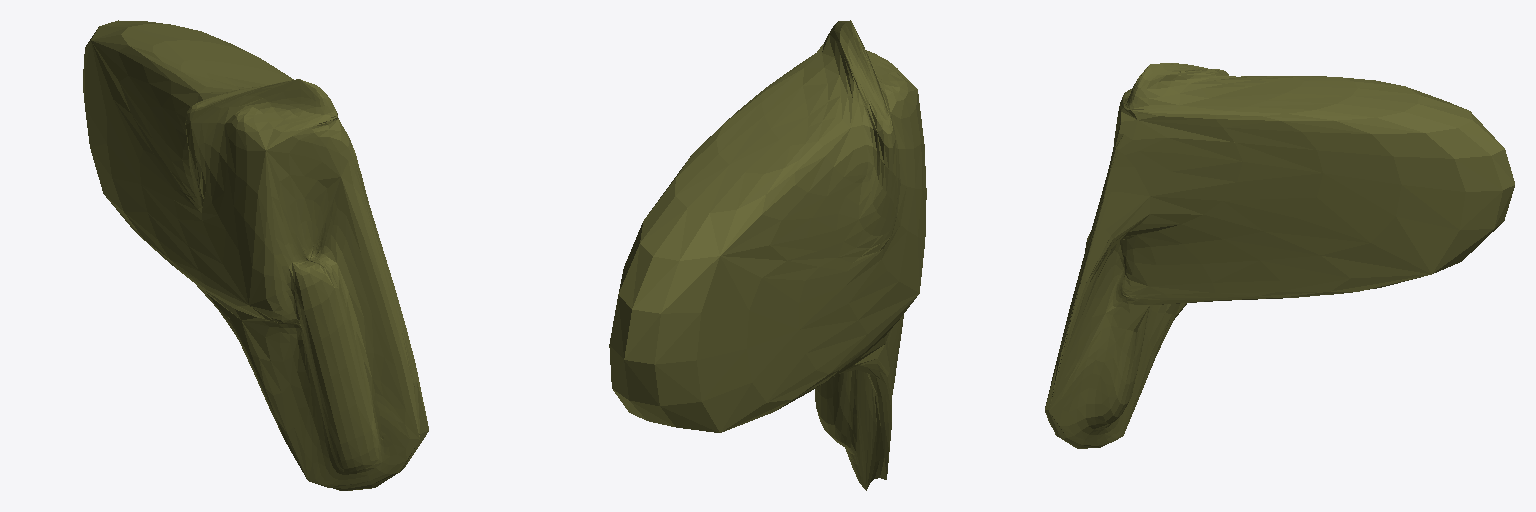
URDF robot description (blob858):

<robot name="blob858">
  <link name="random_obj_858">
    <contact>
      <lateral_friction value="1.0"/>
      <rolling_friction value="0.0"/>
      <inertia_scaling value="3.0"/>
      <contact_cfm value="0.0"/>
      <contact_erp value="1.0"/>
    </contact>
    <inertial>
      <origin rpy="0 0 0" xyz="0 0 0"/>
      <mass value="0.1440"/>
      <inertia ixx="1" ixy="0" ixz="0" iyy="1" iyz="0" izz="0"/>
    </inertial>
    <visual>
      <origin rpy="0 0 0" xyz="0 0 0"/>
      <geometry>
        <mesh filename="858.obj" scale="0.0076 0.0076 0.0076"/>
      </geometry>
      <material name="blockmat">
        <color rgba="0.43 0.43 0.25 1"/>
      </material>
    </visual>
    <collision>
      <origin rpy="0 0 0" xyz="0 0 0"/>
      <geometry>
        <mesh filename="858_coll.obj" scale="0.0076 0.0076 0.0076"/>
      </geometry>
    </collision>
  </link>
</robot>

--- Facts derived from the render (not from the file) ---
3 views of the same robot in one strip: view 1: azimuth 30°, elevation 25°; view 2: azimuth 150°, elevation 25°; view 3: azimuth 270°, elevation 25° (orthographic).
Model blob858 with 1 links and 0 joints (none), rooted at random_obj_858, posed all joints at 0.
Visible links, largest first — view 1: random_obj_858; view 2: random_obj_858; view 3: random_obj_858.
Boxes of the visible links, left/top/right/bottom form: random_obj_858: left=83, top=20, right=428, bottom=490; random_obj_858: left=609, top=20, right=926, bottom=490; random_obj_858: left=1045, top=63, right=1514, bottom=448.
Size in the robot's own frame: 0.0357 by 0.1029 by 0.0902 metres.
1 mesh visuals loaded from 1 distinct referenced files (1 OBJ).
